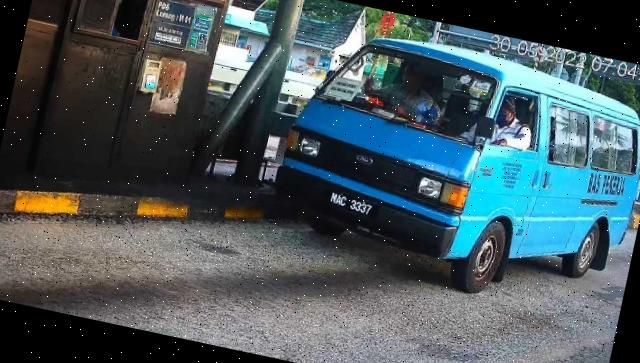License_Plate: (324, 187, 378, 222)
van: (262, 16, 640, 324)
